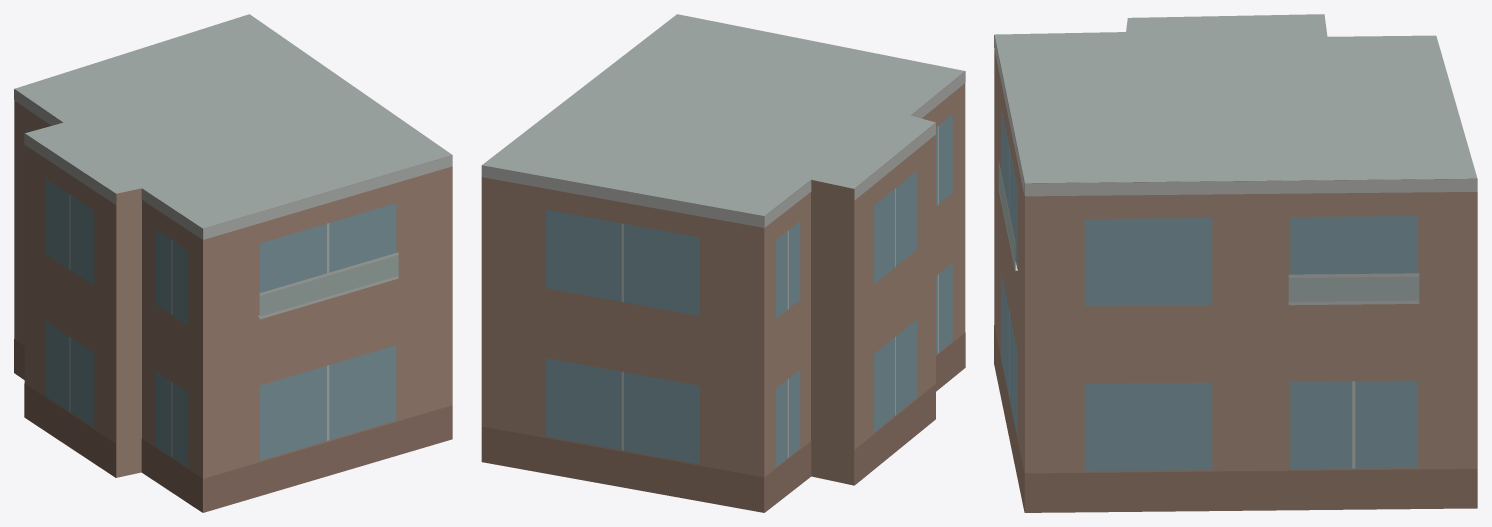
Rendered from survey-upis-32622120.glb.
3 views of the same model, side by side, from view 1: azimuth 30°, elevation 25°; view 2: azimuth 150°, elevation 25°; view 3: azimuth 270°, elevation 25° (orthographic). The views are drawn at different scales.
Parts seen in each view (by area): view 1: survey-upis-32622120.tmp; view 2: survey-upis-32622120.tmp; view 3: survey-upis-32622120.tmp.
Boxes of the visible parts, x1,y1,x2,y2 form: survey-upis-32622120.tmp: (14, 14, 452, 512); survey-upis-32622120.tmp: (481, 14, 965, 512); survey-upis-32622120.tmp: (994, 14, 1477, 512).
Bounding box in the file's own units: 6.72 × 6.1 × 8.12.
